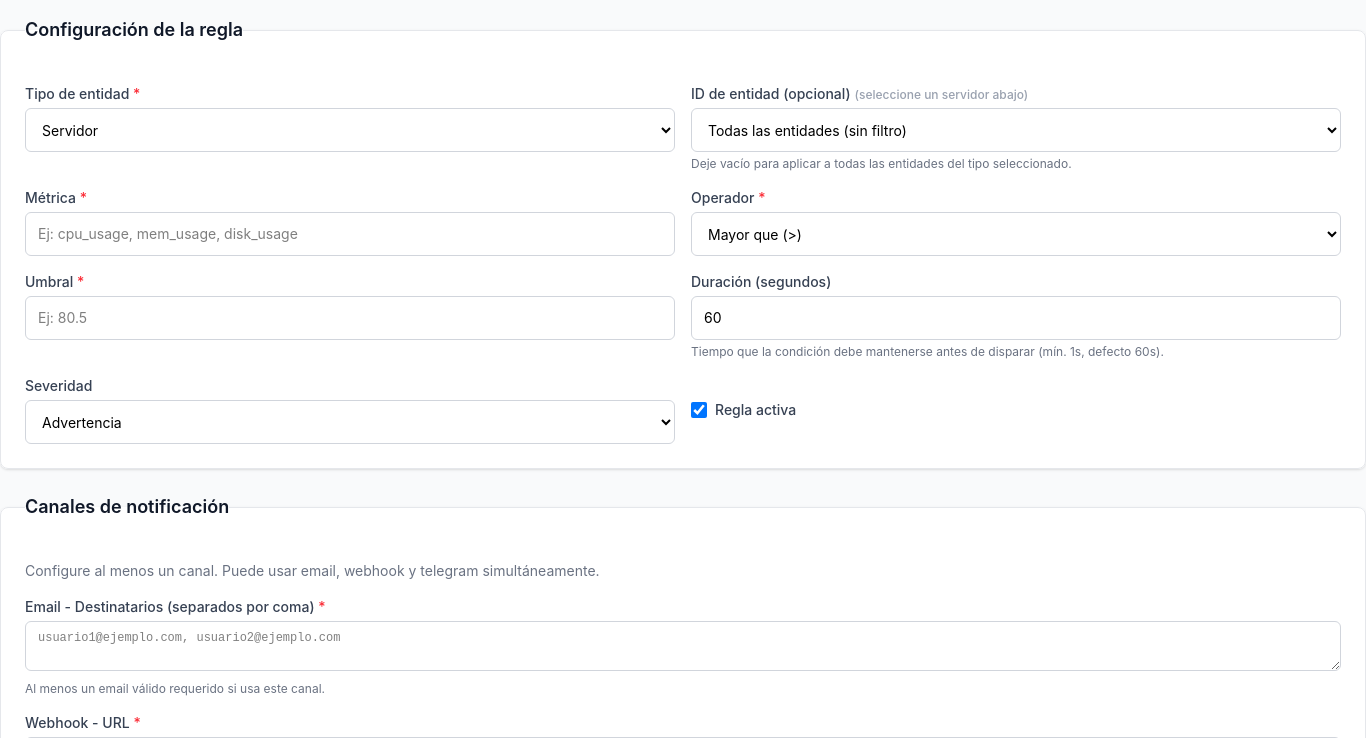
CreateRuleForm › validates threshold as number
In the number field labelled "Umbral *": (350, 318) [25,296,675,340], type "5"
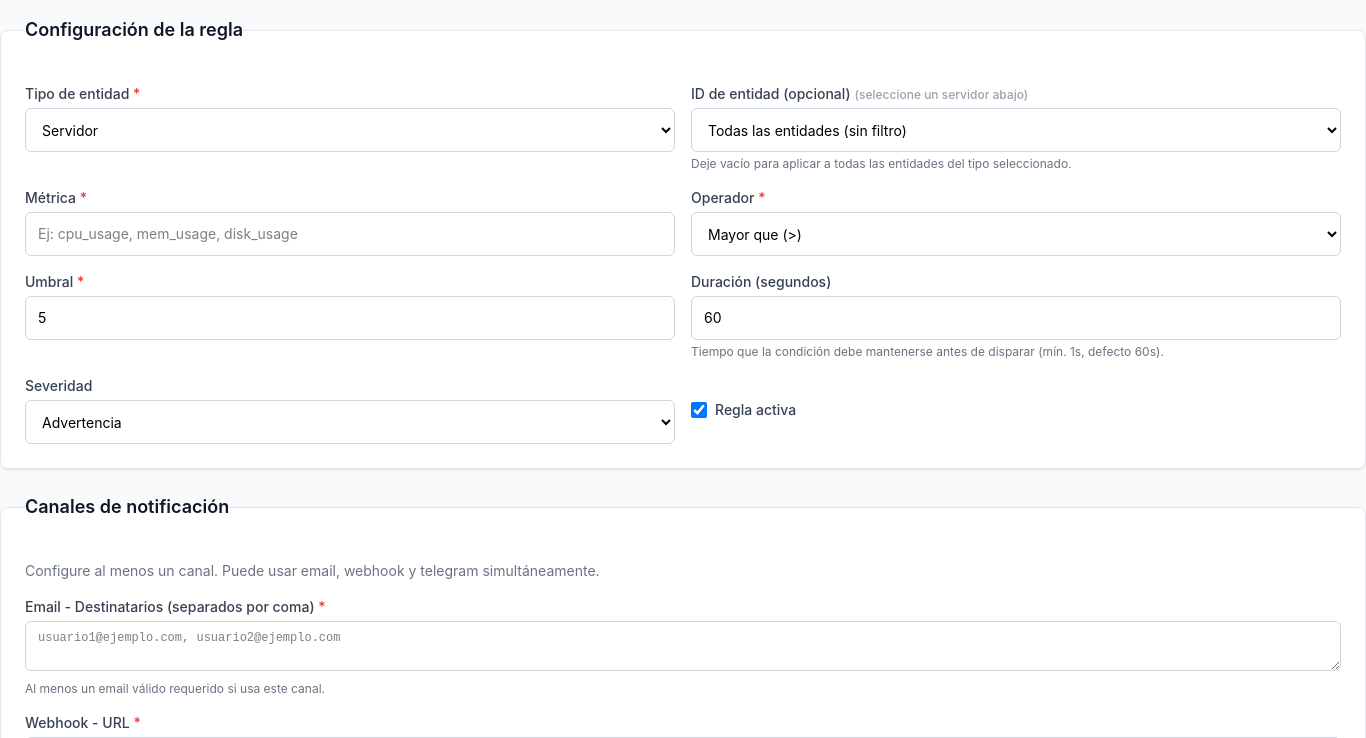
Clear the number field labelled "Umbral *": (350, 318) [25,296,675,340]
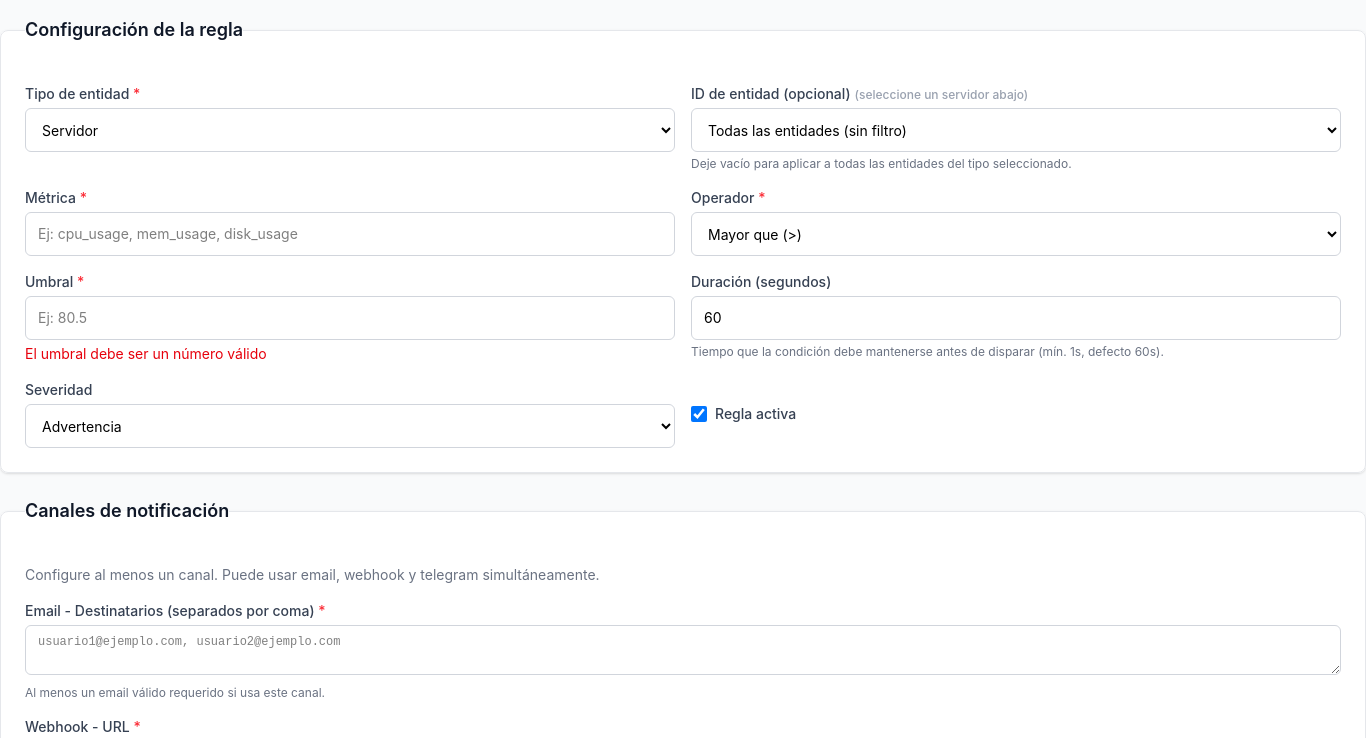
Now the text "El umbral debe ser un número válido" is shown, box [25,345,267,362]
